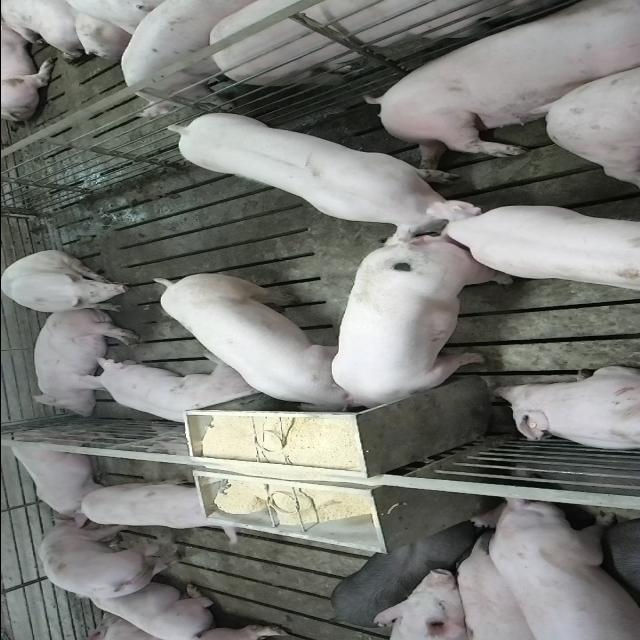Feeding: (330, 243, 512, 419), (144, 268, 360, 412)
Lateral_lying: (365, 3, 640, 169), (29, 307, 139, 417)
Sitting: (2, 250, 136, 314)
Standing: (156, 113, 480, 245), (201, 0, 638, 89), (478, 498, 640, 638), (443, 206, 640, 294), (328, 520, 480, 630), (113, 0, 254, 115), (32, 520, 180, 608), (69, 481, 245, 538)
Sternal_lying: (490, 366, 640, 453), (77, 361, 257, 429), (5, 426, 107, 522), (74, 575, 214, 639)
